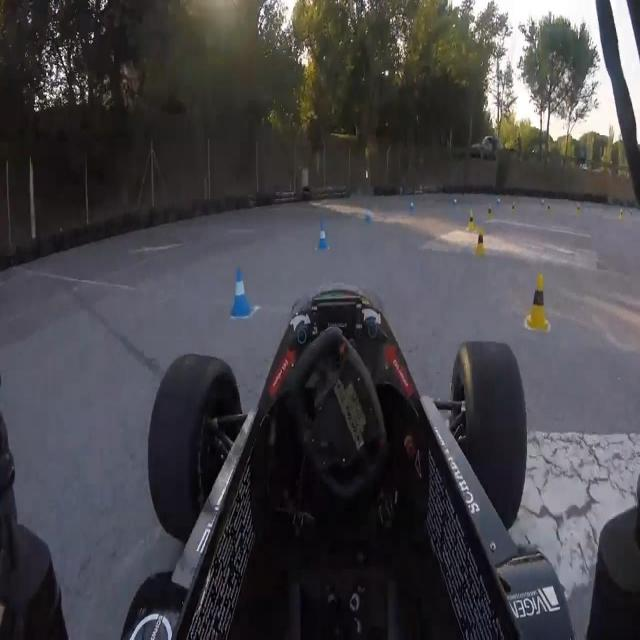blue_cone: (230, 260, 254, 320), (316, 220, 331, 252)
yellow_cone: (526, 274, 551, 334), (474, 229, 487, 257), (466, 210, 476, 232), (485, 204, 494, 220)
